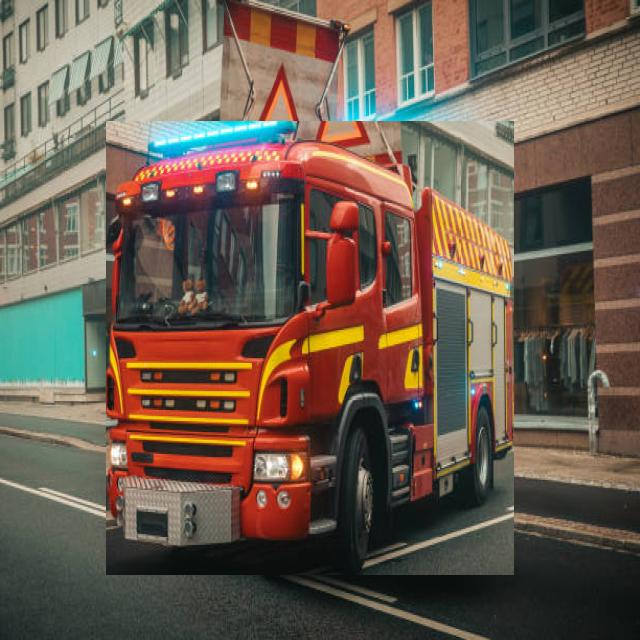emergency: (106, 122, 514, 575)
